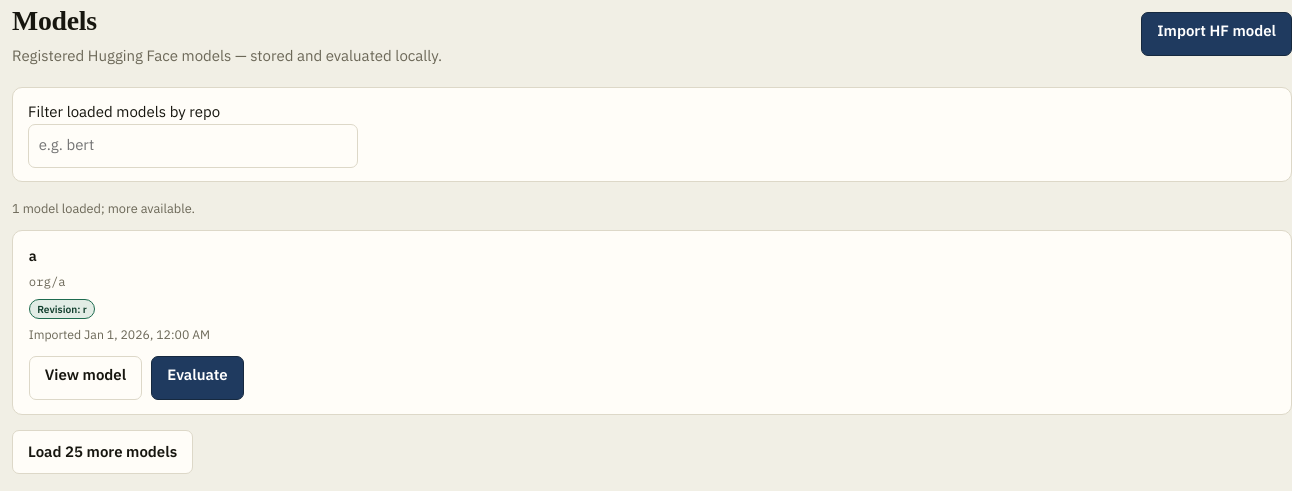
it: load more appends using the cursor
The width and height of the screenshot is (1292, 491).
Click the button "Load 25 more models".
click(103, 452)  # box [12,430,193,474]
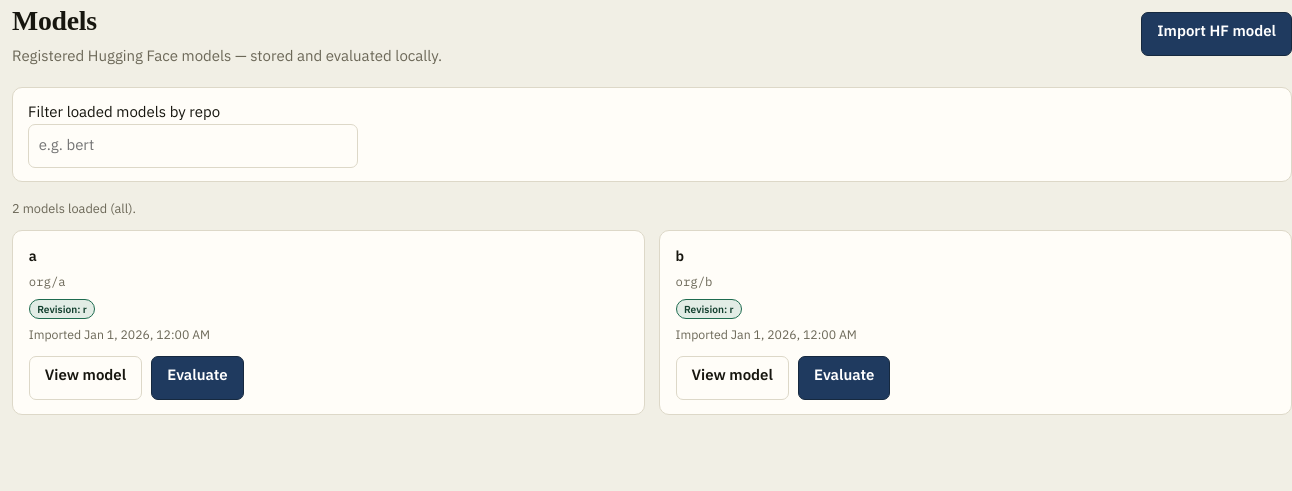
Now the text "2 models loaded (all)." is shown, box [12,200,136,217]
